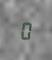zero: (19, 19, 30, 40)
